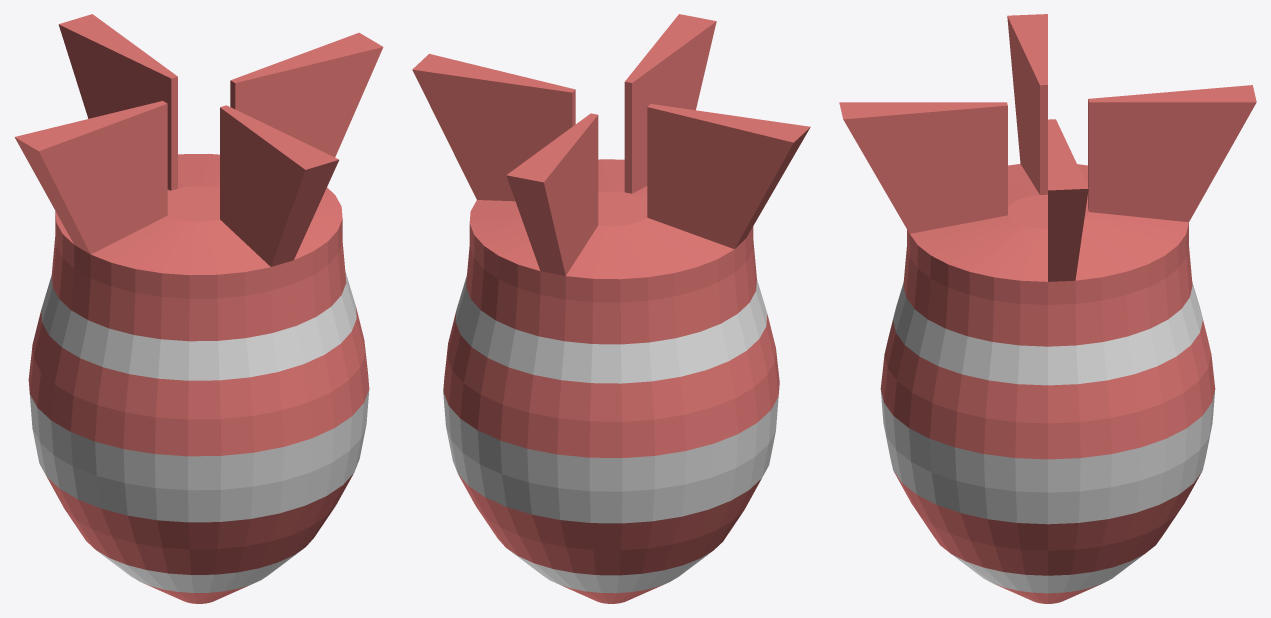
Rendered from Bomb.dae.
The picture shows the model from 3 angles, left to right: view 1: azimuth 30°, elevation 25°; view 2: azimuth 150°, elevation 25°; view 3: azimuth 270°, elevation 25°; orthographic projection. The views are drawn at different scales.
Visible parts, largest first — view 1: Cylinder; view 2: Cylinder; view 3: Cylinder.
Boxes of the visible parts, bbox=[...] form: Cylinder: bbox=[14, 14, 383, 603]; Cylinder: bbox=[412, 14, 810, 603]; Cylinder: bbox=[839, 14, 1256, 603].
Size of the model in its own units: 0.5 by 0.5 by 0.6512.
